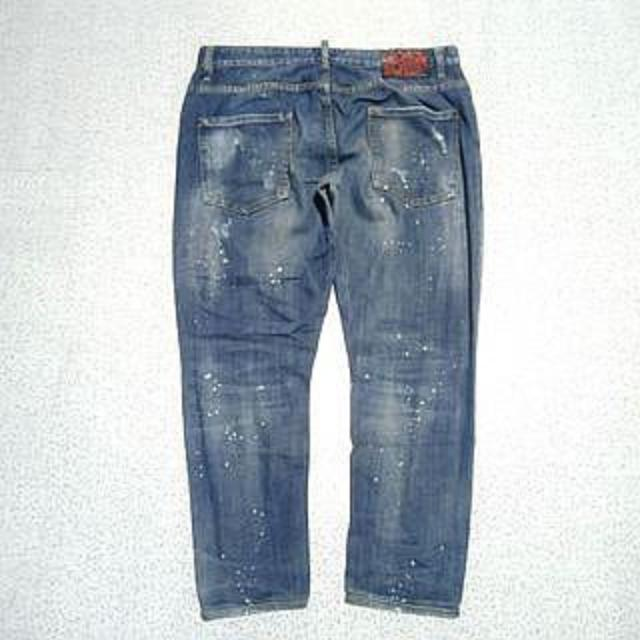TROUSER: (145, 33, 538, 635)
